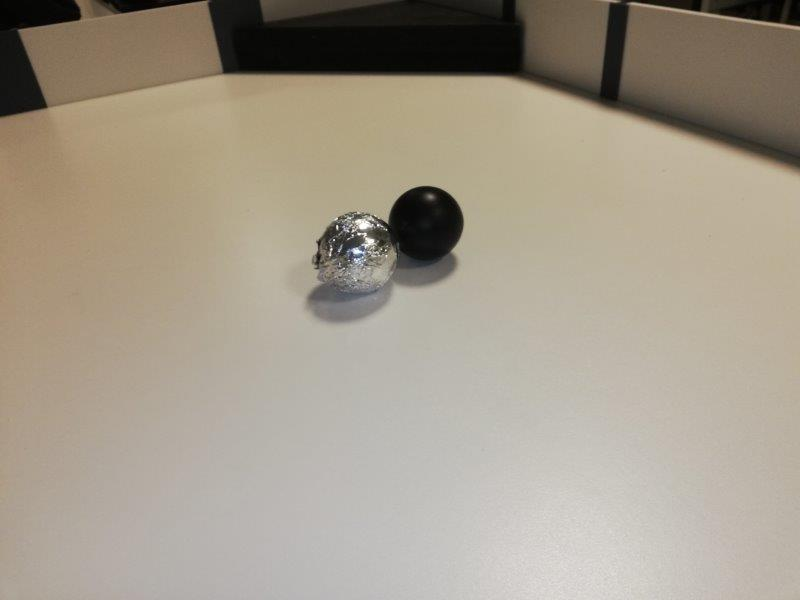bianca: (316, 214, 396, 293)
nera: (391, 187, 464, 264)
